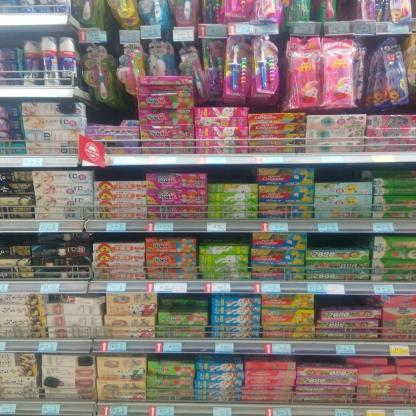Void: (313, 234, 368, 250), (314, 166, 367, 180), (162, 290, 212, 304), (208, 168, 251, 180), (97, 170, 146, 180), (202, 235, 248, 245), (319, 296, 365, 306), (96, 106, 117, 127), (304, 356, 341, 364), (102, 233, 140, 240)
